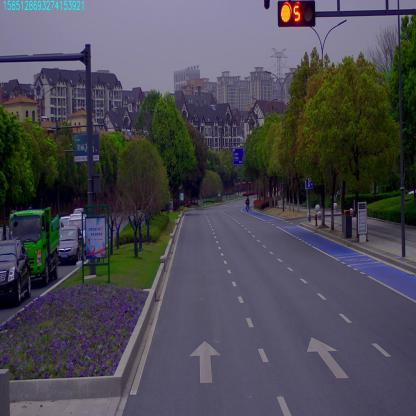traffic-light: (277, 3, 314, 28)
